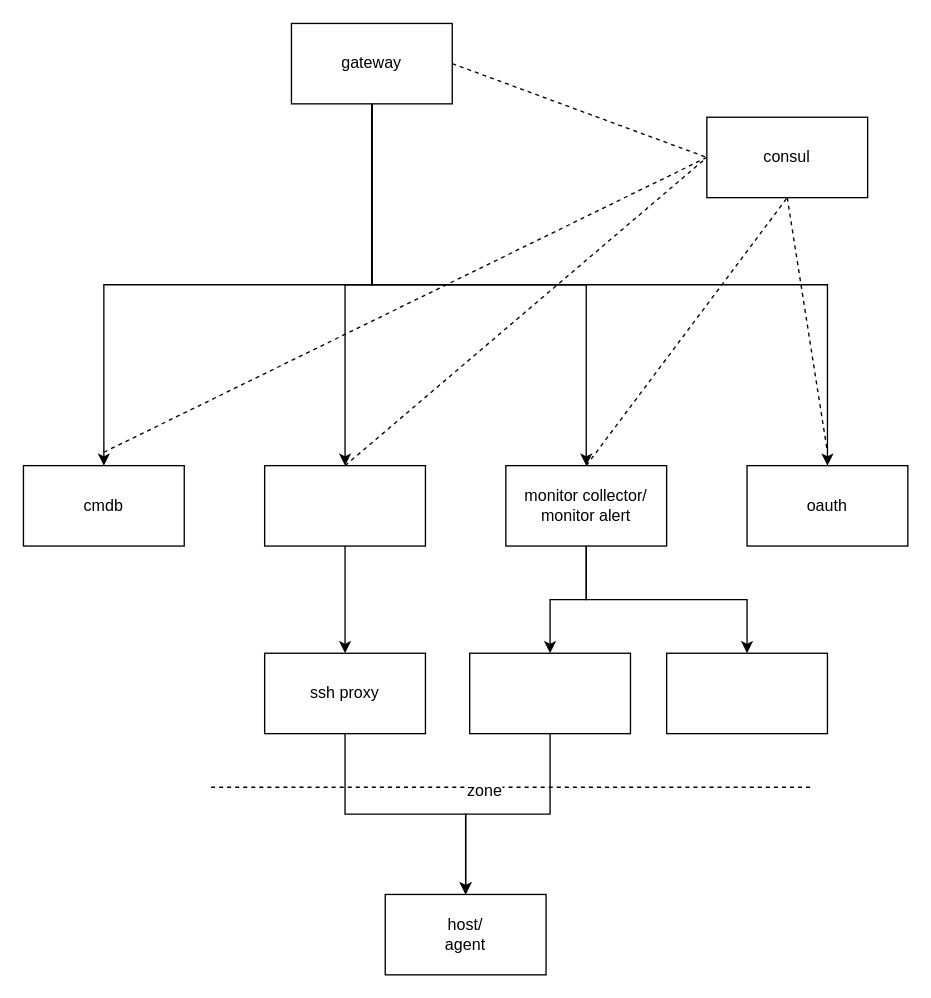
Image size: 931x998. Some labels were removed from this diagram. The centre of each missing label's shape, as x and y in pixels:
"ansible" goes at (x=344, y=505).
"proxy" goes at (x=549, y=693).
"tsdb" goes at (x=746, y=693).
